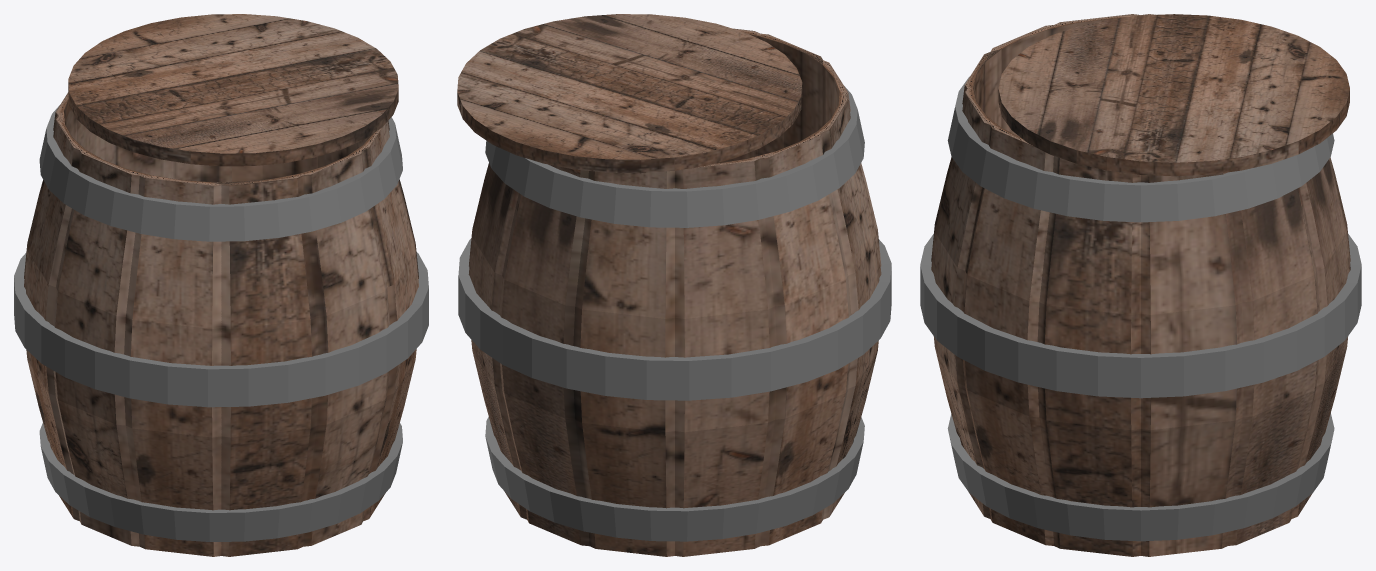
Rendered from barrel.gltf.
The picture shows the model from 3 angles, left to right: view 1: azimuth 30°, elevation 25°; view 2: azimuth 150°, elevation 25°; view 3: azimuth 270°, elevation 25°; orthographic projection. The views are drawn at different scales.
Visible parts, largest first — view 1: Circle.003; view 2: Circle.003; view 3: Circle.003.
Part boxes in pixels (box(x1,y1,x2,y2)): Circle.003: box(14, 14, 428, 556); Circle.003: box(457, 14, 891, 556); Circle.003: box(920, 14, 1361, 556).
Size of the model in its own units: 2.03 by 2.07 by 2.03.
Materials: 4 (3 with a texture image).
